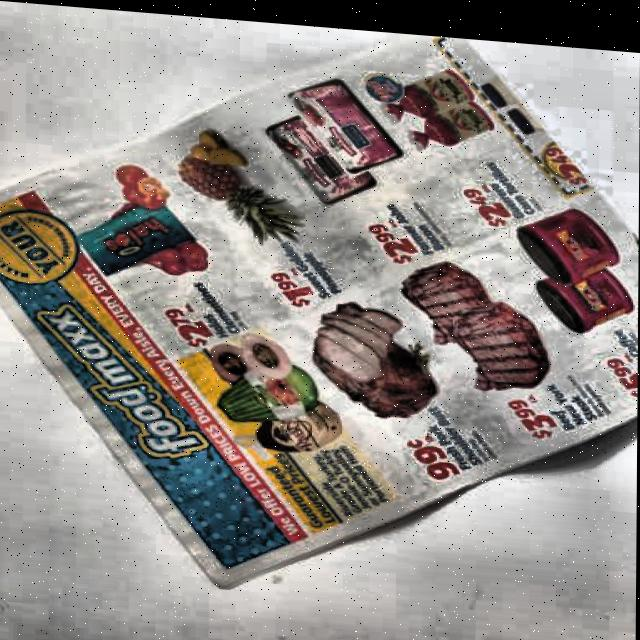paper: (0, 0, 640, 621)
